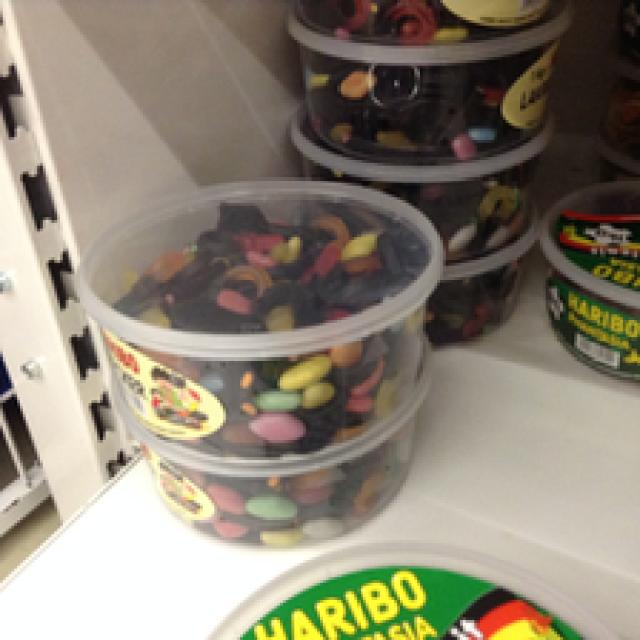groceries: (77, 174, 443, 457), (117, 406, 423, 548), (283, 11, 568, 163), (532, 174, 637, 383)
